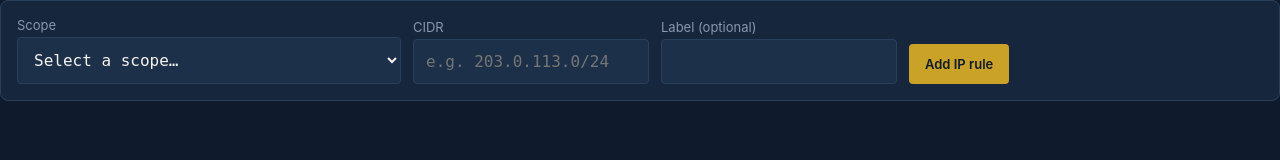
it: CreateIpRuleForm › shows the action-returned error message and keeps the entered values on failure
Select "Global — applies to every user" in the dropdown labelled "Scope": (209, 60) [17,37,401,84]
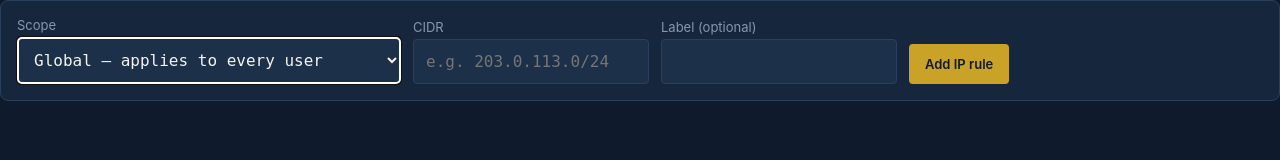
In the field labelled "CIDR": (531, 62) [413,39,649,84], type "203.0.113.0/24"
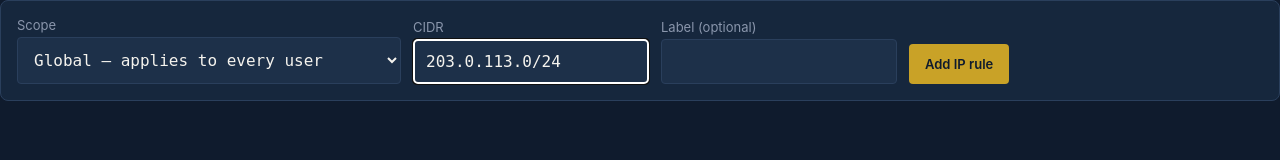
Click the button "Add IP rule": (959, 64) [909,44,1009,84]
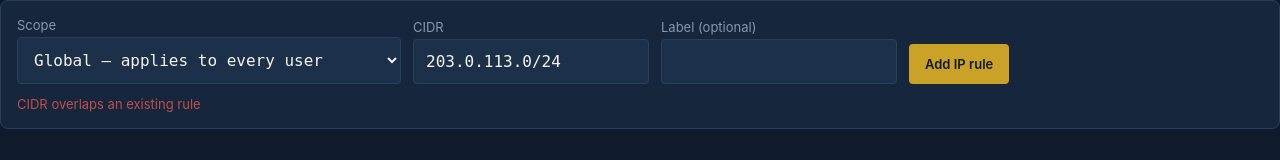
Result: the text "CIDR overlaps an existing rule" is shown at [17,96,201,112]
